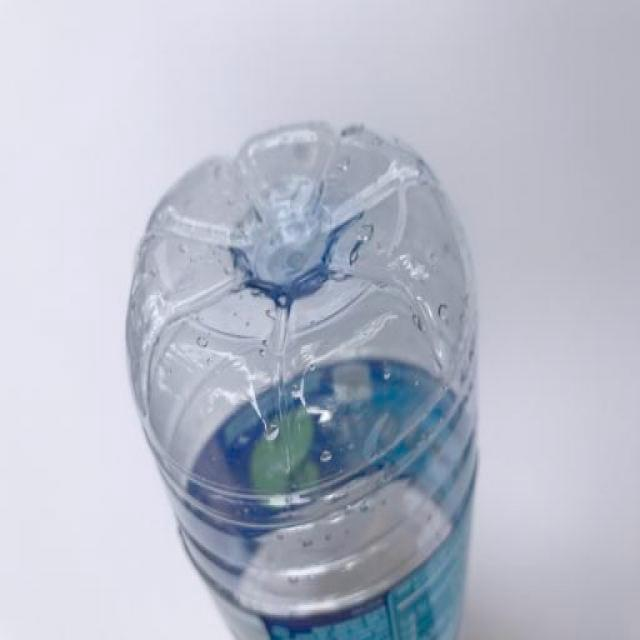bottle: (123, 119, 480, 640)
